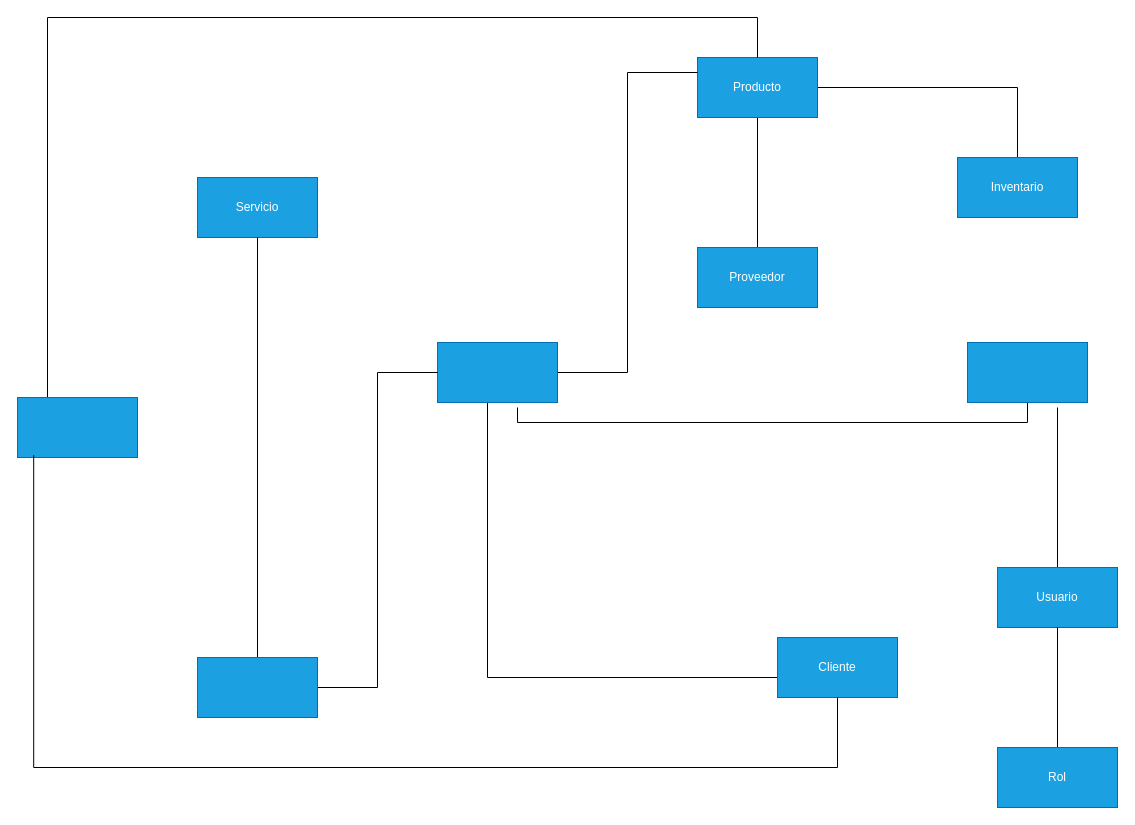
Some shapes in this 1135 by 825 pixel diagram are drawn without their labels. Here are the shapes that lost their labels. From the top down, the centre of each, then its label:
the point at 497,372: Venta
the point at 1027,372: Vendedor
the point at 77,427: Pedido
the point at 257,687: Factura
